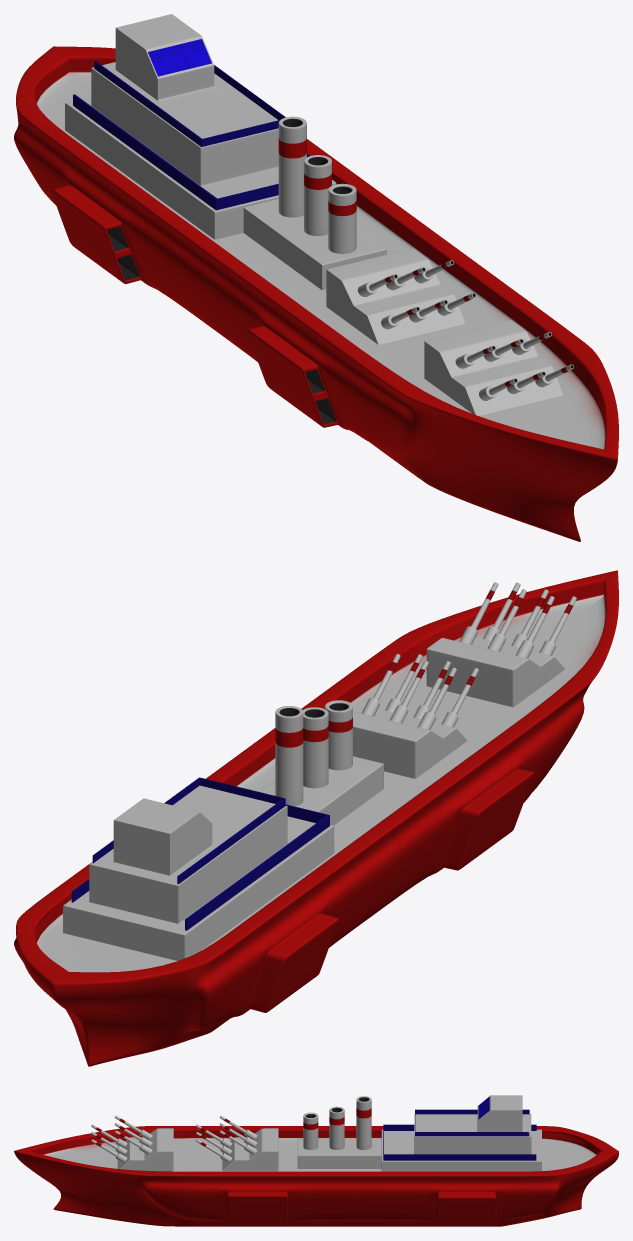
File: bossLVL2.fbx
The picture shows the model from 3 angles, top to bottom: view 1: azimuth 30°, elevation 25°; view 2: azimuth 150°, elevation 25°; view 3: azimuth 270°, elevation 25°; orthographic projection. The views are drawn at different scales.
Visible parts, largest first — view 1: Cube, Cube.005, Cube.006, Cube.003, Cube.001; view 2: Cube, Cube.005, Cube.006, Cube.001, Cube.003; view 3: Cube, Cube.005, Cube.006, Cube.003, Cube.001.
Boxes of the visible parts, x1,y1,x2,y2 form: Cube: [14, 46, 618, 541]; Cube.005: [65, 14, 336, 239]; Cube.006: [243, 116, 386, 289]; Cube.003: [326, 248, 476, 344]; Cube.001: [424, 320, 573, 415]; Cube: [14, 570, 618, 1066]; Cube.005: [63, 777, 334, 960]; Cube.006: [259, 700, 383, 825]; Cube.001: [426, 582, 576, 707]; Cube.003: [353, 654, 478, 778]; Cube: [14, 1126, 618, 1226]; Cube.005: [381, 1095, 541, 1171]; Cube.006: [297, 1096, 381, 1168]; Cube.003: [196, 1116, 278, 1171]; Cube.001: [91, 1116, 173, 1171].
Bounding box in the file's own units: 2026 × 1898 × 8443.
3 materials, 3 textured.
